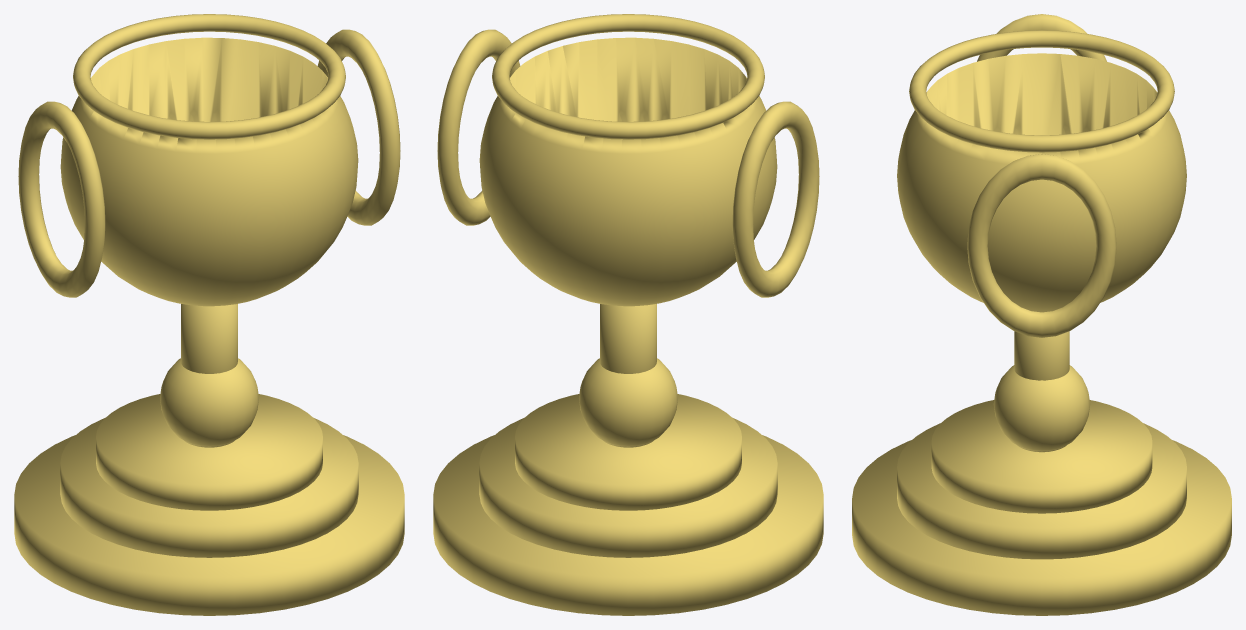
The model's file is Trophy.fbx.
The picture shows the model from 3 angles, left to right: view 1: azimuth 30°, elevation 25°; view 2: azimuth 150°, elevation 25°; view 3: azimuth 270°, elevation 25°; orthographic projection. The views are drawn at different scales.
Visible parts, largest first — view 1: Trophy_Cup, Trophy_BaseBottom, Trophy_BaseTop, Trophy_BaseMid, Trophy_Rim, Trophy_Handle_L, Trophy_Knob, Trophy_Handle_R, Trophy_Stem; view 2: Trophy_Cup, Trophy_BaseBottom, Trophy_BaseTop, Trophy_BaseMid, Trophy_Rim, Trophy_Handle_L, Trophy_Knob, Trophy_Handle_R, Trophy_Stem; view 3: Trophy_Cup, Trophy_BaseBottom, Trophy_BaseTop, Trophy_BaseMid, Trophy_Handle_R, Trophy_Rim, Trophy_Knob, Trophy_Stem, Trophy_Handle_L.
Boxes of the visible parts, x1,y1,x2,y2 form: Trophy_Cup: (60,37,358,306); Trophy_BaseBottom: (14,435,404,615); Trophy_BaseTop: (96,394,322,510); Trophy_BaseMid: (60,417,358,557); Trophy_Rim: (73,14,345,139); Trophy_Handle_L: (18,101,105,297); Trophy_Knob: (160,358,258,447); Trophy_Handle_R: (317,29,400,225); Trophy_Stem: (181,304,237,447); Trophy_Cup: (479,37,777,306); Trophy_BaseBottom: (433,435,823,615); Trophy_BaseTop: (515,394,741,510); Trophy_BaseMid: (479,417,777,557); Trophy_Rim: (492,14,764,139); Trophy_Handle_L: (732,101,819,297); Trophy_Knob: (579,358,677,447); Trophy_Handle_R: (437,29,520,225); Trophy_Stem: (600,304,656,447); Trophy_Cup: (897,53,1186,312); Trophy_BaseBottom: (852,440,1231,615); Trophy_BaseTop: (931,400,1152,513); Trophy_BaseMid: (897,423,1186,559); Trophy_Handle_R: (967,154,1116,337); Trophy_Rim: (909,30,1174,152); Trophy_Knob: (993,365,1090,452); Trophy_Stem: (1014,331,1069,451); Trophy_Handle_L: (977,14,1106,61).
Size of the model in its own units: 110 by 145 by 110.
